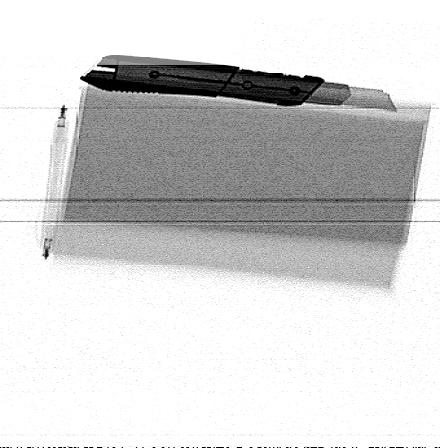Knife: (77, 54, 402, 113)
